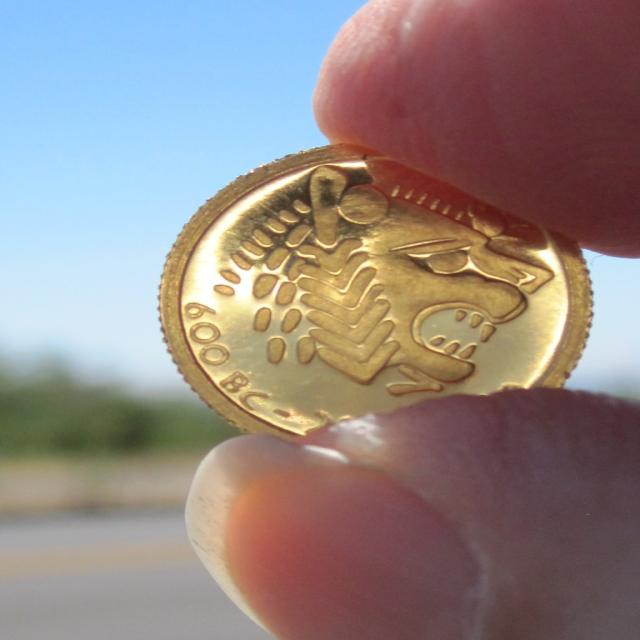Coin: (150, 141, 596, 447)
